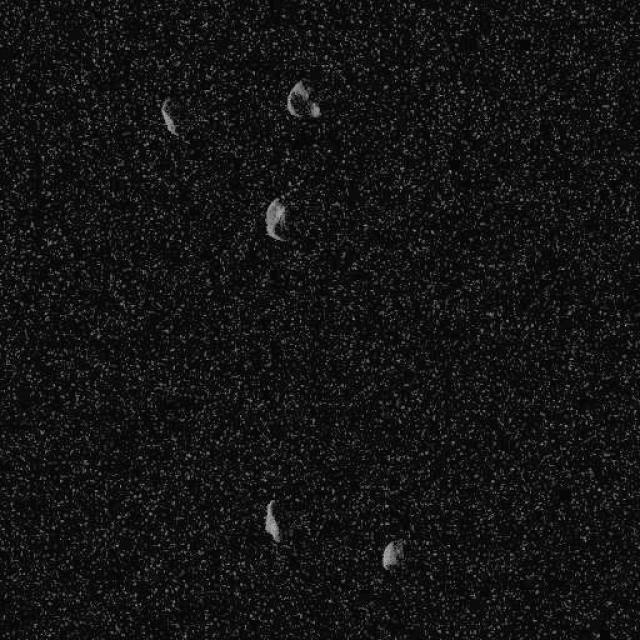D2: (285, 79, 321, 119), (264, 196, 288, 242), (262, 498, 282, 542), (159, 96, 179, 136), (380, 539, 404, 571)
